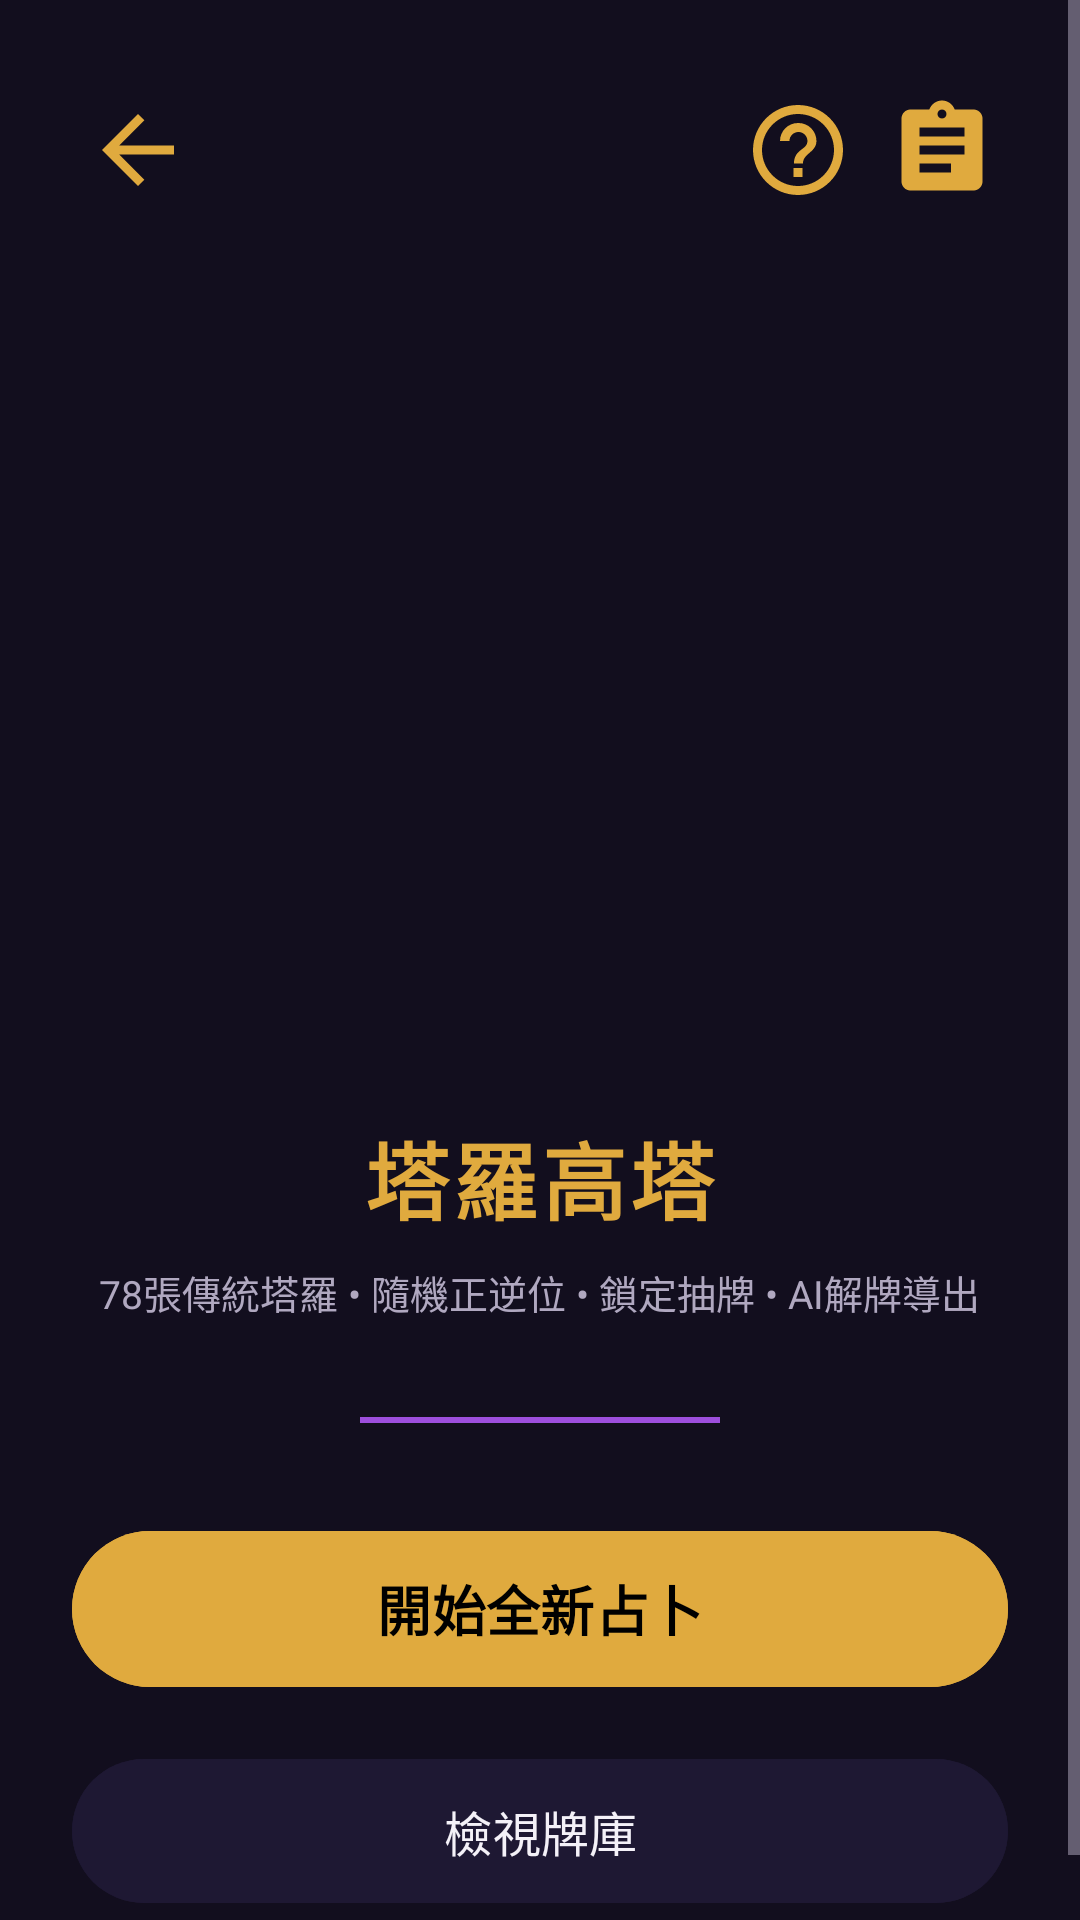

Point at icon controls on the screen. Image size 1080 × 1920, points as (x,y).
使用說明: (798,150)
歷史記事本: (942,145)
返回上一頁: (138,150)
